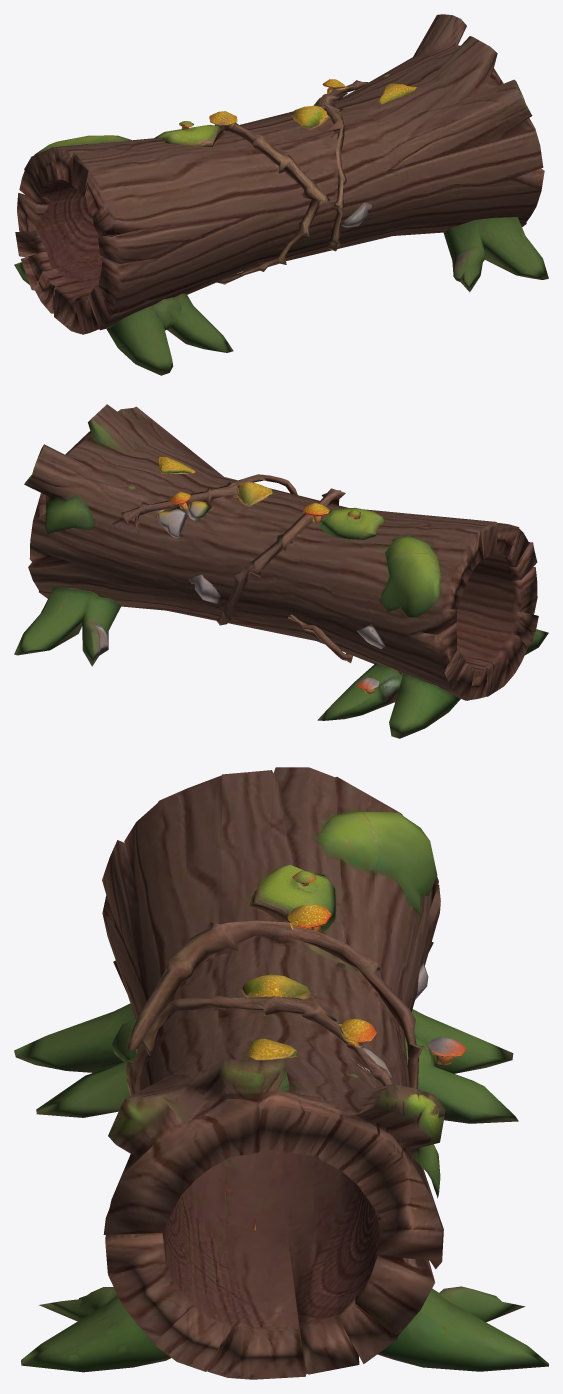
The model's file is hollowLog.glb.
3 renders of one model, top to bottom at view 1: azimuth 30°, elevation 25°; view 2: azimuth 150°, elevation 25°; view 3: azimuth 270°, elevation 25°, orthographic. The views are drawn at different scales.
Size of the model in its own units: 0.9546 by 0.3891 by 0.6089.
Materials: 1 (1 with a texture image).
